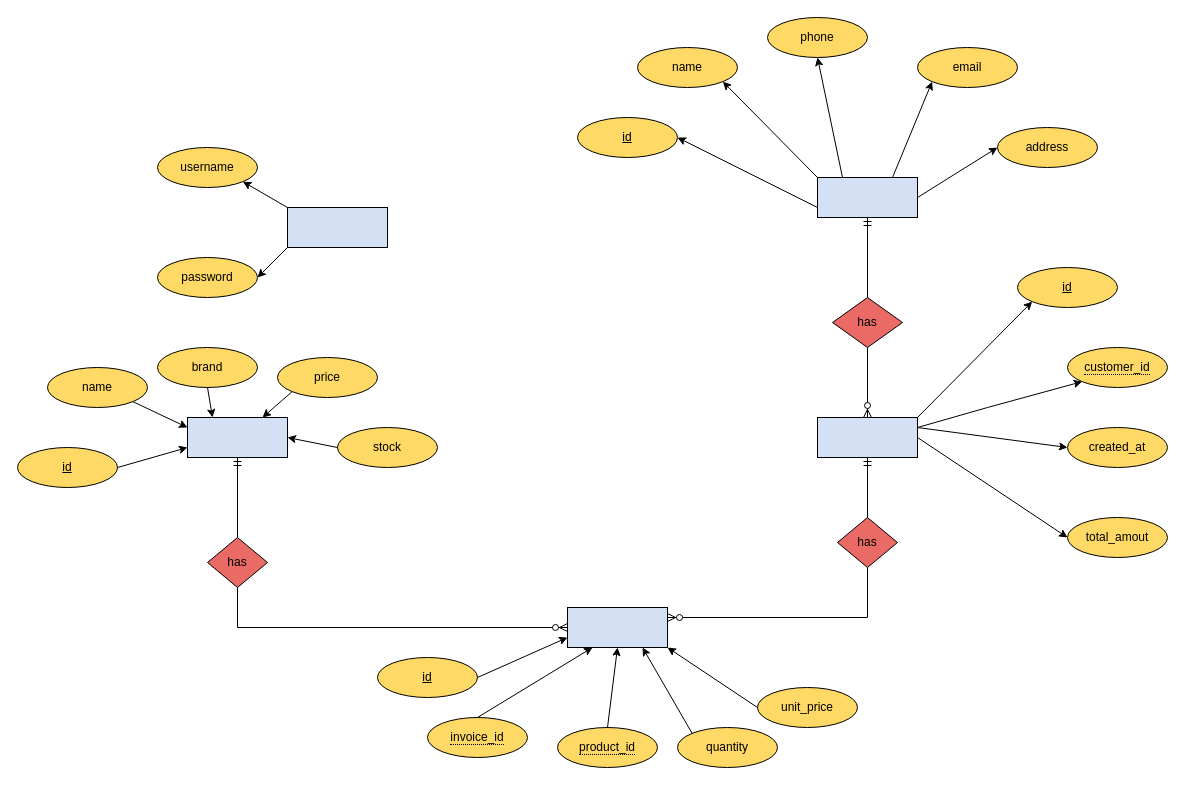
This 1185x785 diagram has some shape labels left out. Each missing label, with the box of its shape:
Admin: (286, 206, 388, 248)
Customer: (816, 176, 918, 218)
Invoice: (816, 416, 918, 458)
InvoiceDetails: (566, 606, 668, 648)
Product: (186, 416, 288, 458)
